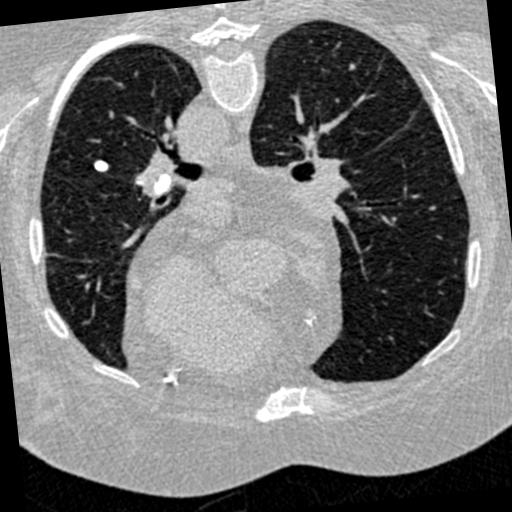nodule: (93, 158, 112, 177)
